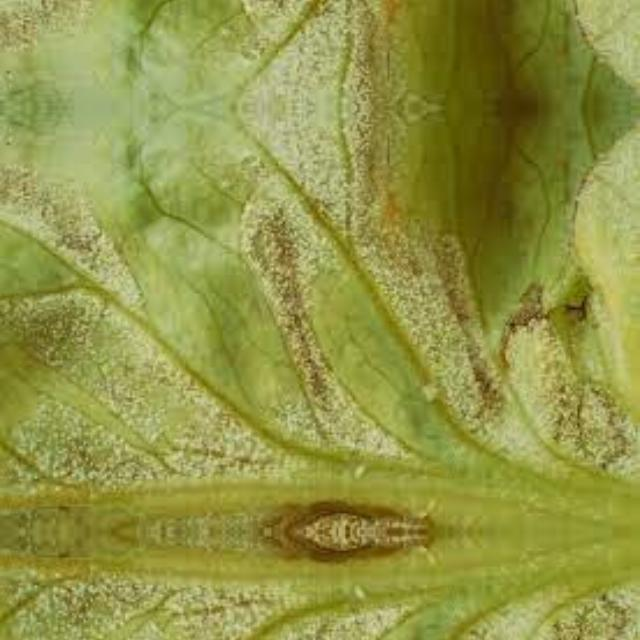Downy_mildew: (11, 125, 616, 523), (11, 539, 616, 640), (11, 0, 616, 89)
